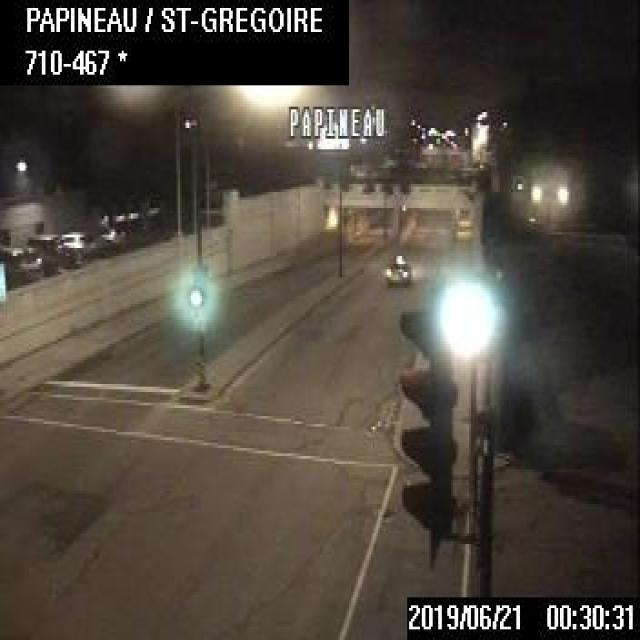vehicle: (0, 242, 40, 282), (28, 233, 58, 270), (56, 228, 90, 258), (386, 255, 410, 282)
